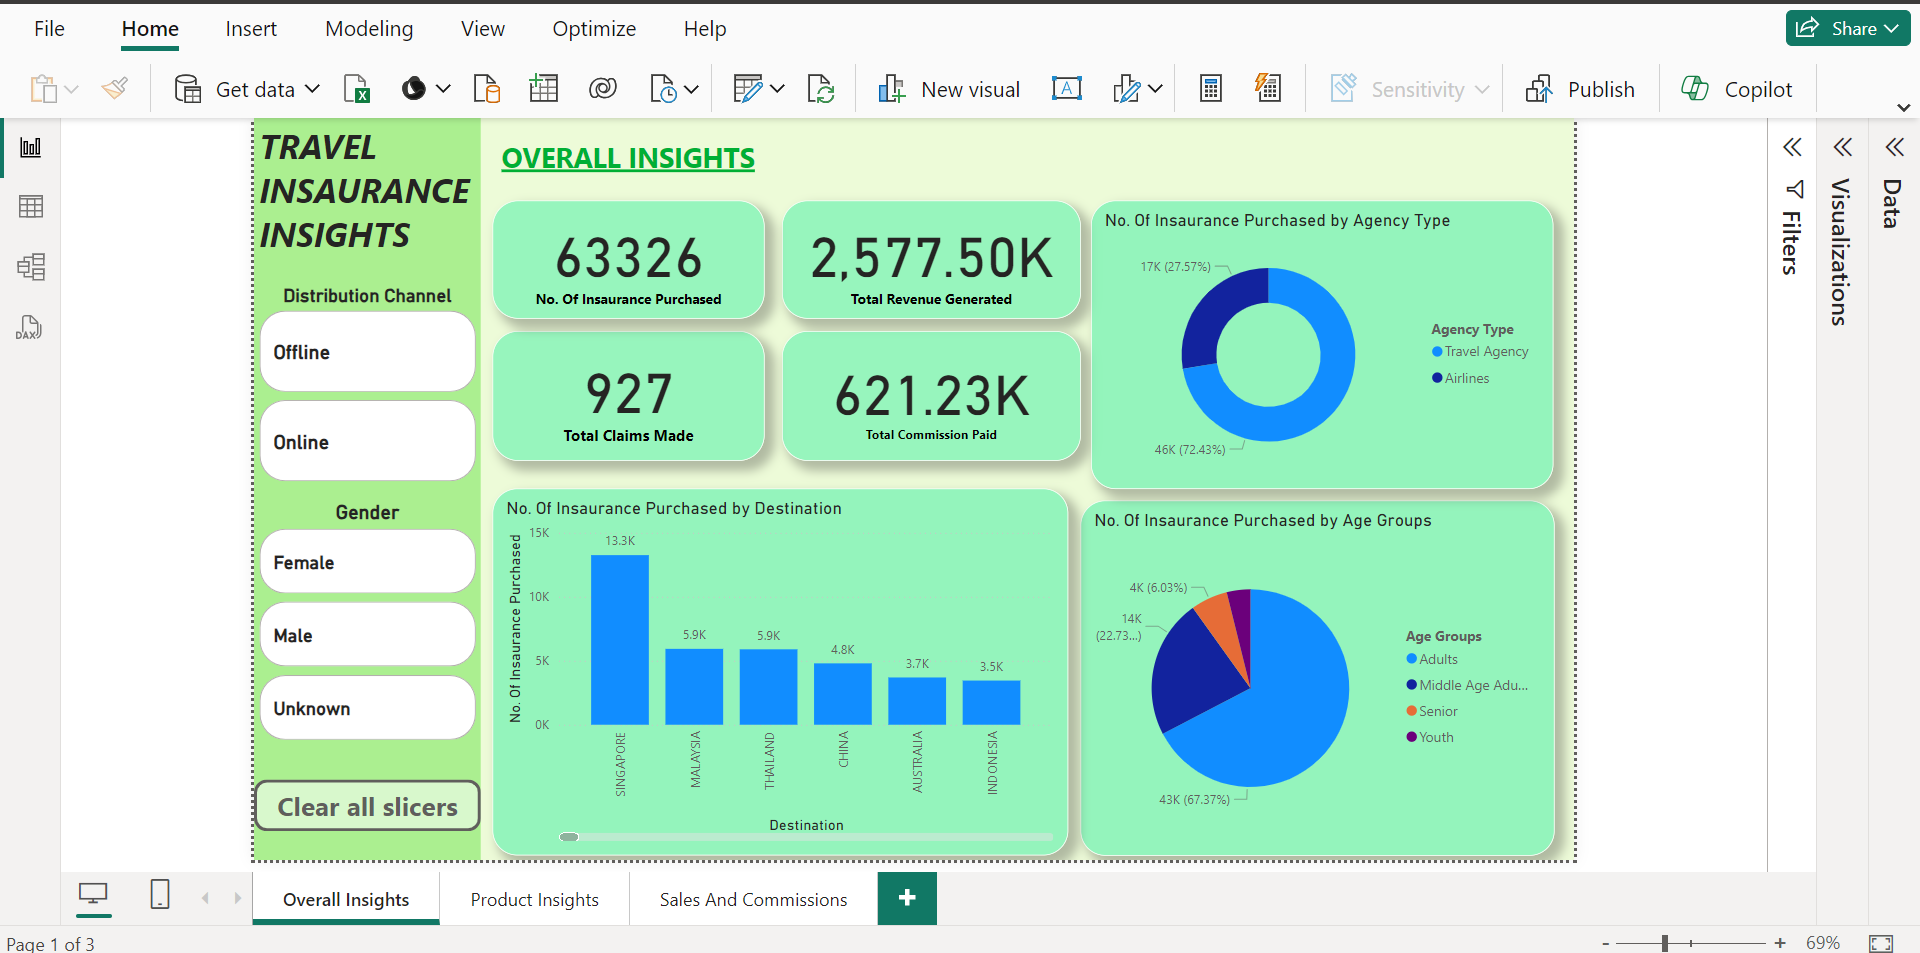

Layout of this report page (visuals, bound fields, positions):
{"tool":"powerbi","page":{"name":"Overall Insights","canvas":[1280,720],"ordinal":0},"visuals":[{"type":"textbox","box":[0,0,220,720.6],"z":0},{"type":"card","fields":{"Values":["travel insurance dataset.Total Revenue Generated"]},"box":[511.7,79.3,289.8,115],"z":1000},{"type":"card","fields":{"Values":["travel insurance dataset.Total Commission Paid"]},"box":[511.7,207.3,289.8,126.3],"z":2000},{"type":"card","fields":{"Values":["travel insurance dataset.Total Claims Made"]},"box":[231.5,207.3,263.9,126.3],"z":3000},{"type":"card","fields":{"Values":["travel insurance dataset.No. Of Insaurance Purchased"]},"box":[231.5,79.3,263.9,115],"z":4000},{"type":"pieChart","fields":{"Category":["travel insurance dataset.Age Groups"],"Y":["travel insurance dataset.No. Of Insaurance Purchased"]},"box":[801.5,370.8,459.9,344.9],"z":5000},{"type":"clusteredColumnChart","fields":{"Category":["travel insurance dataset.Destination"],"Y":["travel insurance dataset.No. Of Insaurance Purchased"]},"box":[231.5,359.5,558.6,356.2],"z":6000},{"type":"advancedSlicerVisual","fields":{"Values":["travel insurance dataset.Gender"]},"box":[0,370.8,220.2,238],"z":7000},{"type":"advancedSlicerVisual","fields":{"Values":["travel insurance dataset.Distribution Channel"]},"box":[0,161.9,220.2,197.5],"z":8000},{"type":"donutChart","fields":{"Category":["travel insurance dataset.Agency Type"],"Y":["travel insurance dataset.No. Of Insaurance Purchased"]},"box":[812.9,79.3,448.5,280.1],"z":9000},{"type":"textbox","box":[0,0,220,166.7],"z":10000},{"type":"actionButton","box":[0,641.2,220.2,50.2],"z":11000},{"type":"textbox","box":[220.2,14.6,286.6,64.8],"z":12000}]}

Visuals, with their boxes on the page's 1280x720 design canvas (x1, y1, x2, y2). These are canvas units, not pixel positions in the 1920x953 screenshot, which may show the page scaled, cropped or inside an application window:
textbox: 0 0 220 721
card - travel insurance dataset.Total Revenue Generated: 512 79 802 194
card - travel insurance dataset.Total Commission Paid: 512 207 802 334
card - travel insurance dataset.Total Claims Made: 232 207 495 334
card - travel insurance dataset.No. Of Insaurance Purchased: 232 79 495 194
pieChart - travel insurance dataset.Age Groups x travel insurance dataset.No. Of Insaurance Purchased: 802 371 1261 716
clusteredColumnChart - travel insurance dataset.Destination x travel insurance dataset.No. Of Insaurance Purchased: 232 360 790 716
advancedSlicerVisual - travel insurance dataset.Gender: 0 371 220 609
advancedSlicerVisual - travel insurance dataset.Distribution Channel: 0 162 220 359
donutChart - travel insurance dataset.Agency Type x travel insurance dataset.No. Of Insaurance Purchased: 813 79 1261 359
textbox: 0 0 220 167
actionButton: 0 641 220 691
textbox: 220 15 507 79
